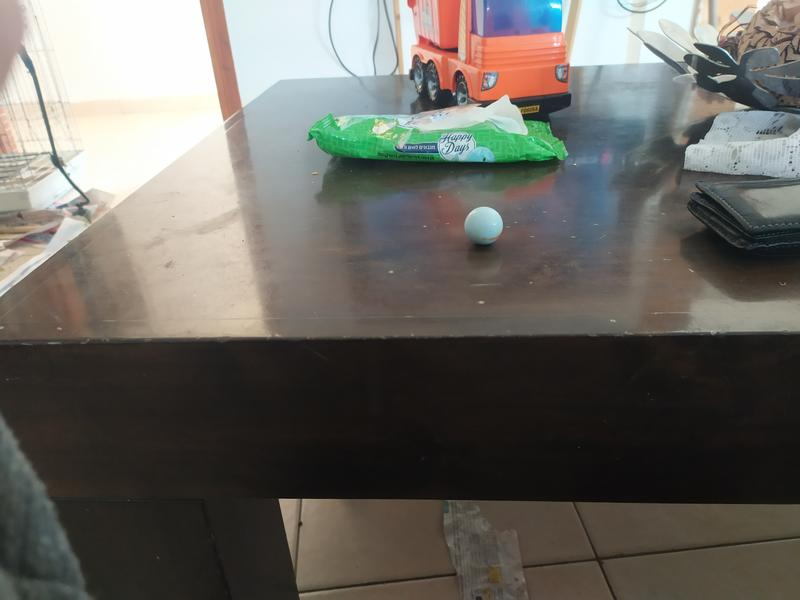Warning: (461, 204, 506, 248)
